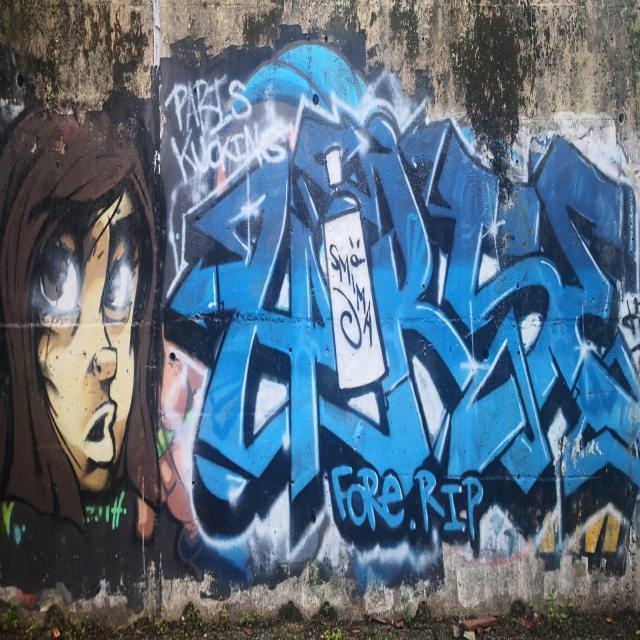-: (170, 44, 640, 556), (0, 105, 160, 542)
